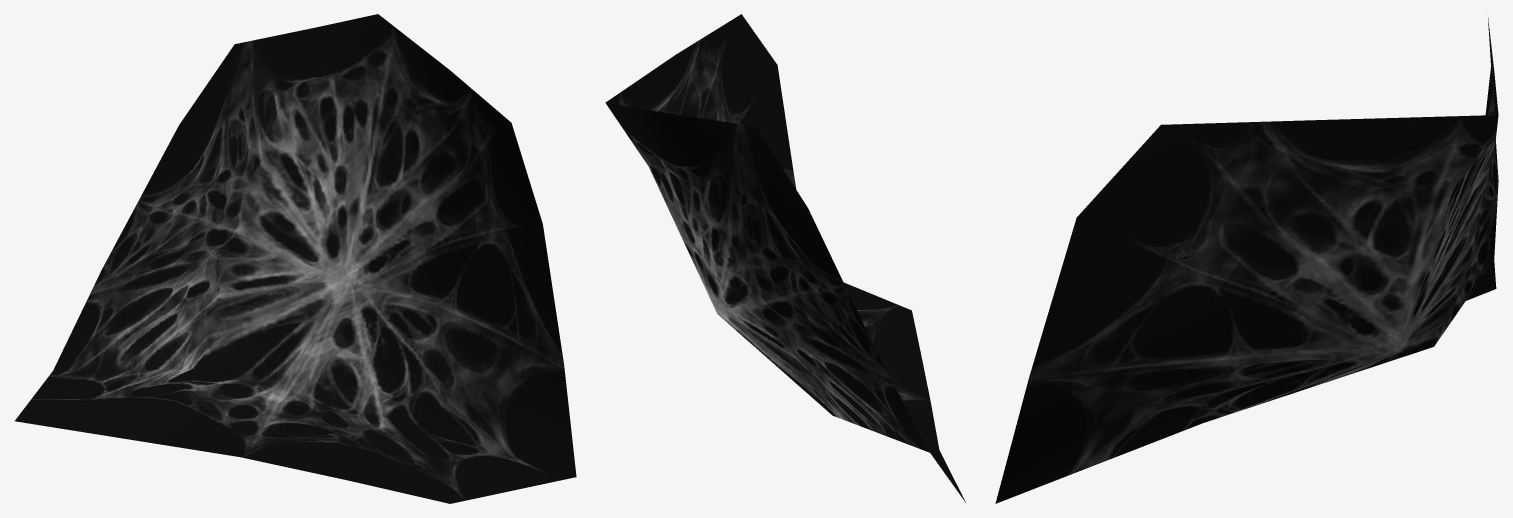
The model's file is web5.fbx.
3 renders of one model, left to right at view 1: azimuth 30°, elevation 25°; view 2: azimuth 150°, elevation 25°; view 3: azimuth 270°, elevation 25°, orthographic. The views are drawn at different scales.
Visible parts, largest first — view 1: web6; view 2: web6; view 3: web6.
Part boxes in pixels (<box>): web6: <box>15,14,576,503</box>; web6: <box>605,14,965,502</box>; web6: <box>995,18,1498,503</box>.
Size of the model in its own units: 4.38 by 3.78 by 4.2.
